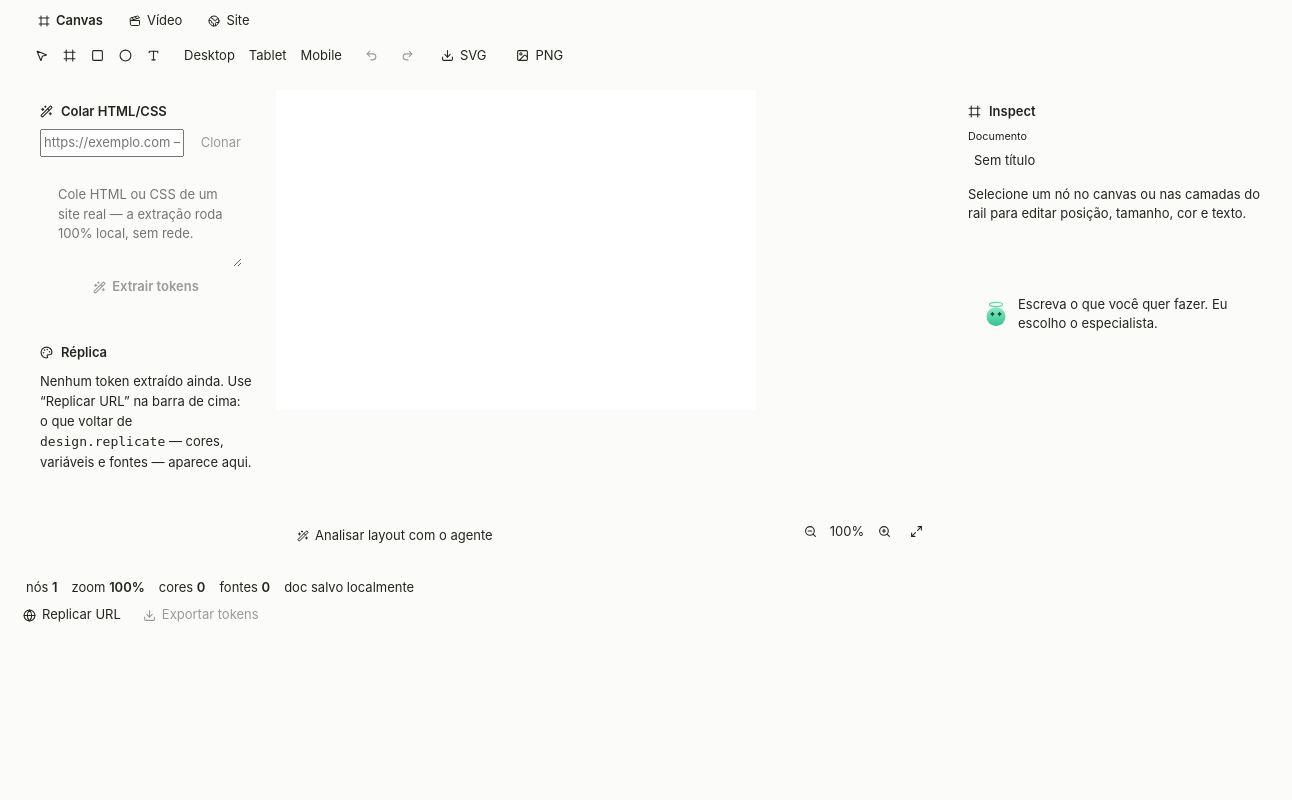
a aba Site do estúdio de Design › sem index.html o vazio é DIGNO: diz o que vai aparecer ali, com o motivo real
Click the tab with class "studio-tab" showing "Site": x=229, y=21 left=196, top=6, right=262, bottom=36
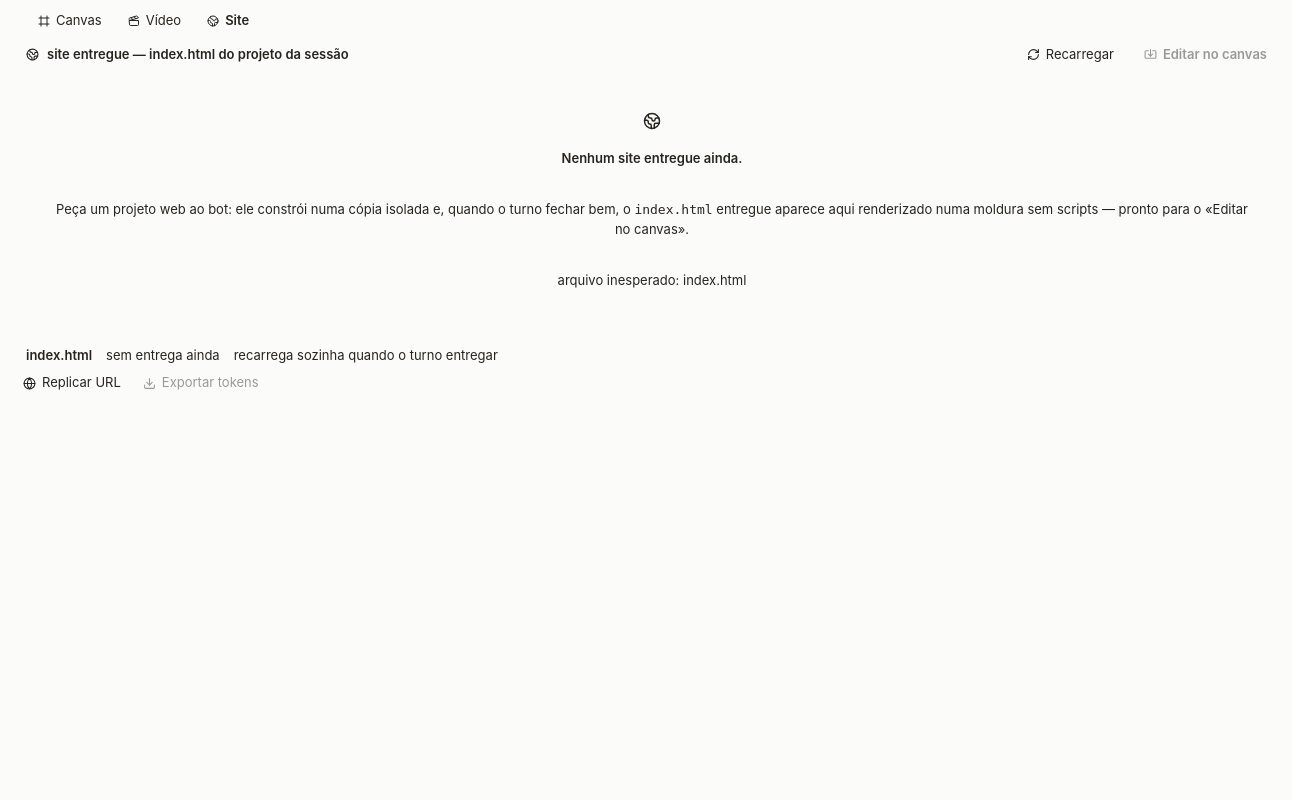
expect the text "Nenhum site entregue ainda" is shown: met, box left=562, top=150, right=742, bottom=166
expect the text "arquivo inesperado: index.html" is shown: met, box left=558, top=271, right=746, bottom=290
expect the button "Editar no canvas" is disabled: met, box left=1133, top=40, right=1278, bottom=68
